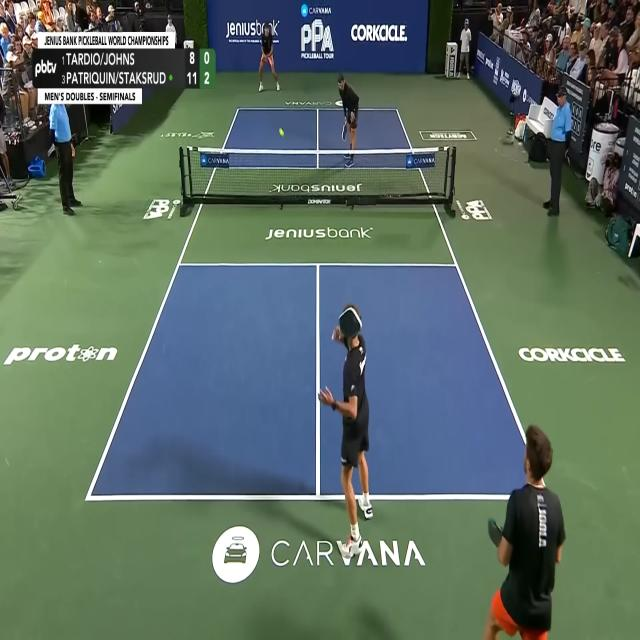ball: (278, 128, 284, 138)
